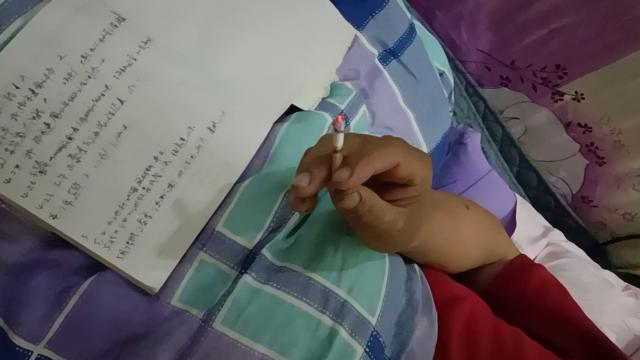Cigarette: (330, 112, 348, 185)
